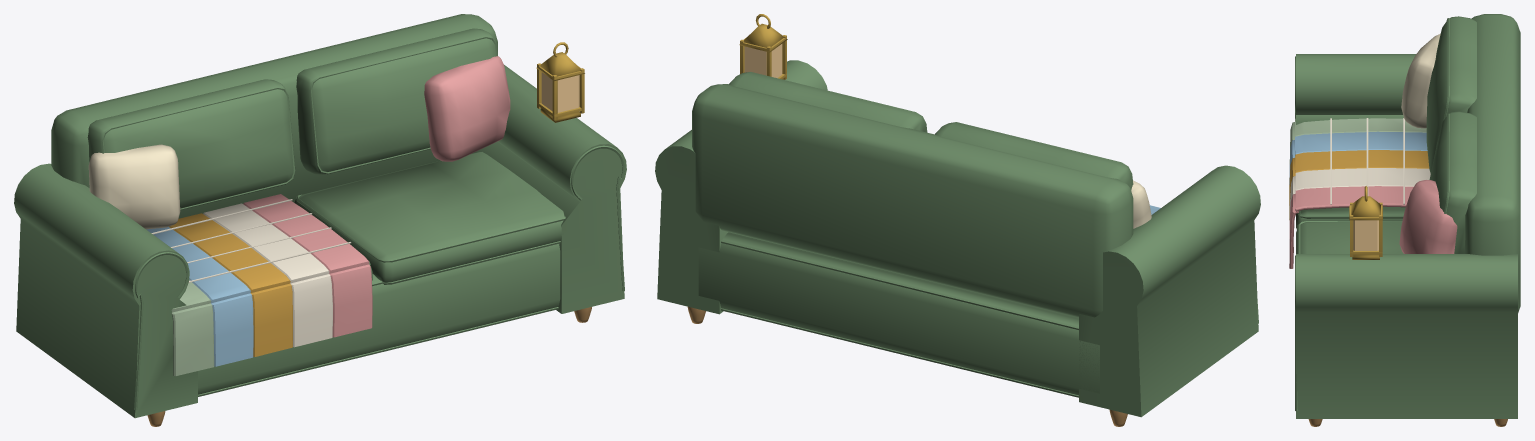
The model's file is hearthSettee.glb.
3 renders of one model, left to right at view 1: azimuth 30°, elevation 25°; view 2: azimuth 150°, elevation 25°; view 3: azimuth 270°, elevation 25°, orthographic. The views are drawn at different scales.
Visible parts, largest first — view 1: body, seats; view 2: body; view 3: body, seats.
Boxes of the visible parts, <box> form: body: <box>14,14,626,426</box>; seats: <box>146,152,565,375</box>; body: <box>655,14,1260,426</box>; body: <box>1295,14,1520,426</box>; seats: <box>1289,118,1430,268</box>.
Size of the model in its own units: 1.9 by 0.945 by 0.8241.
